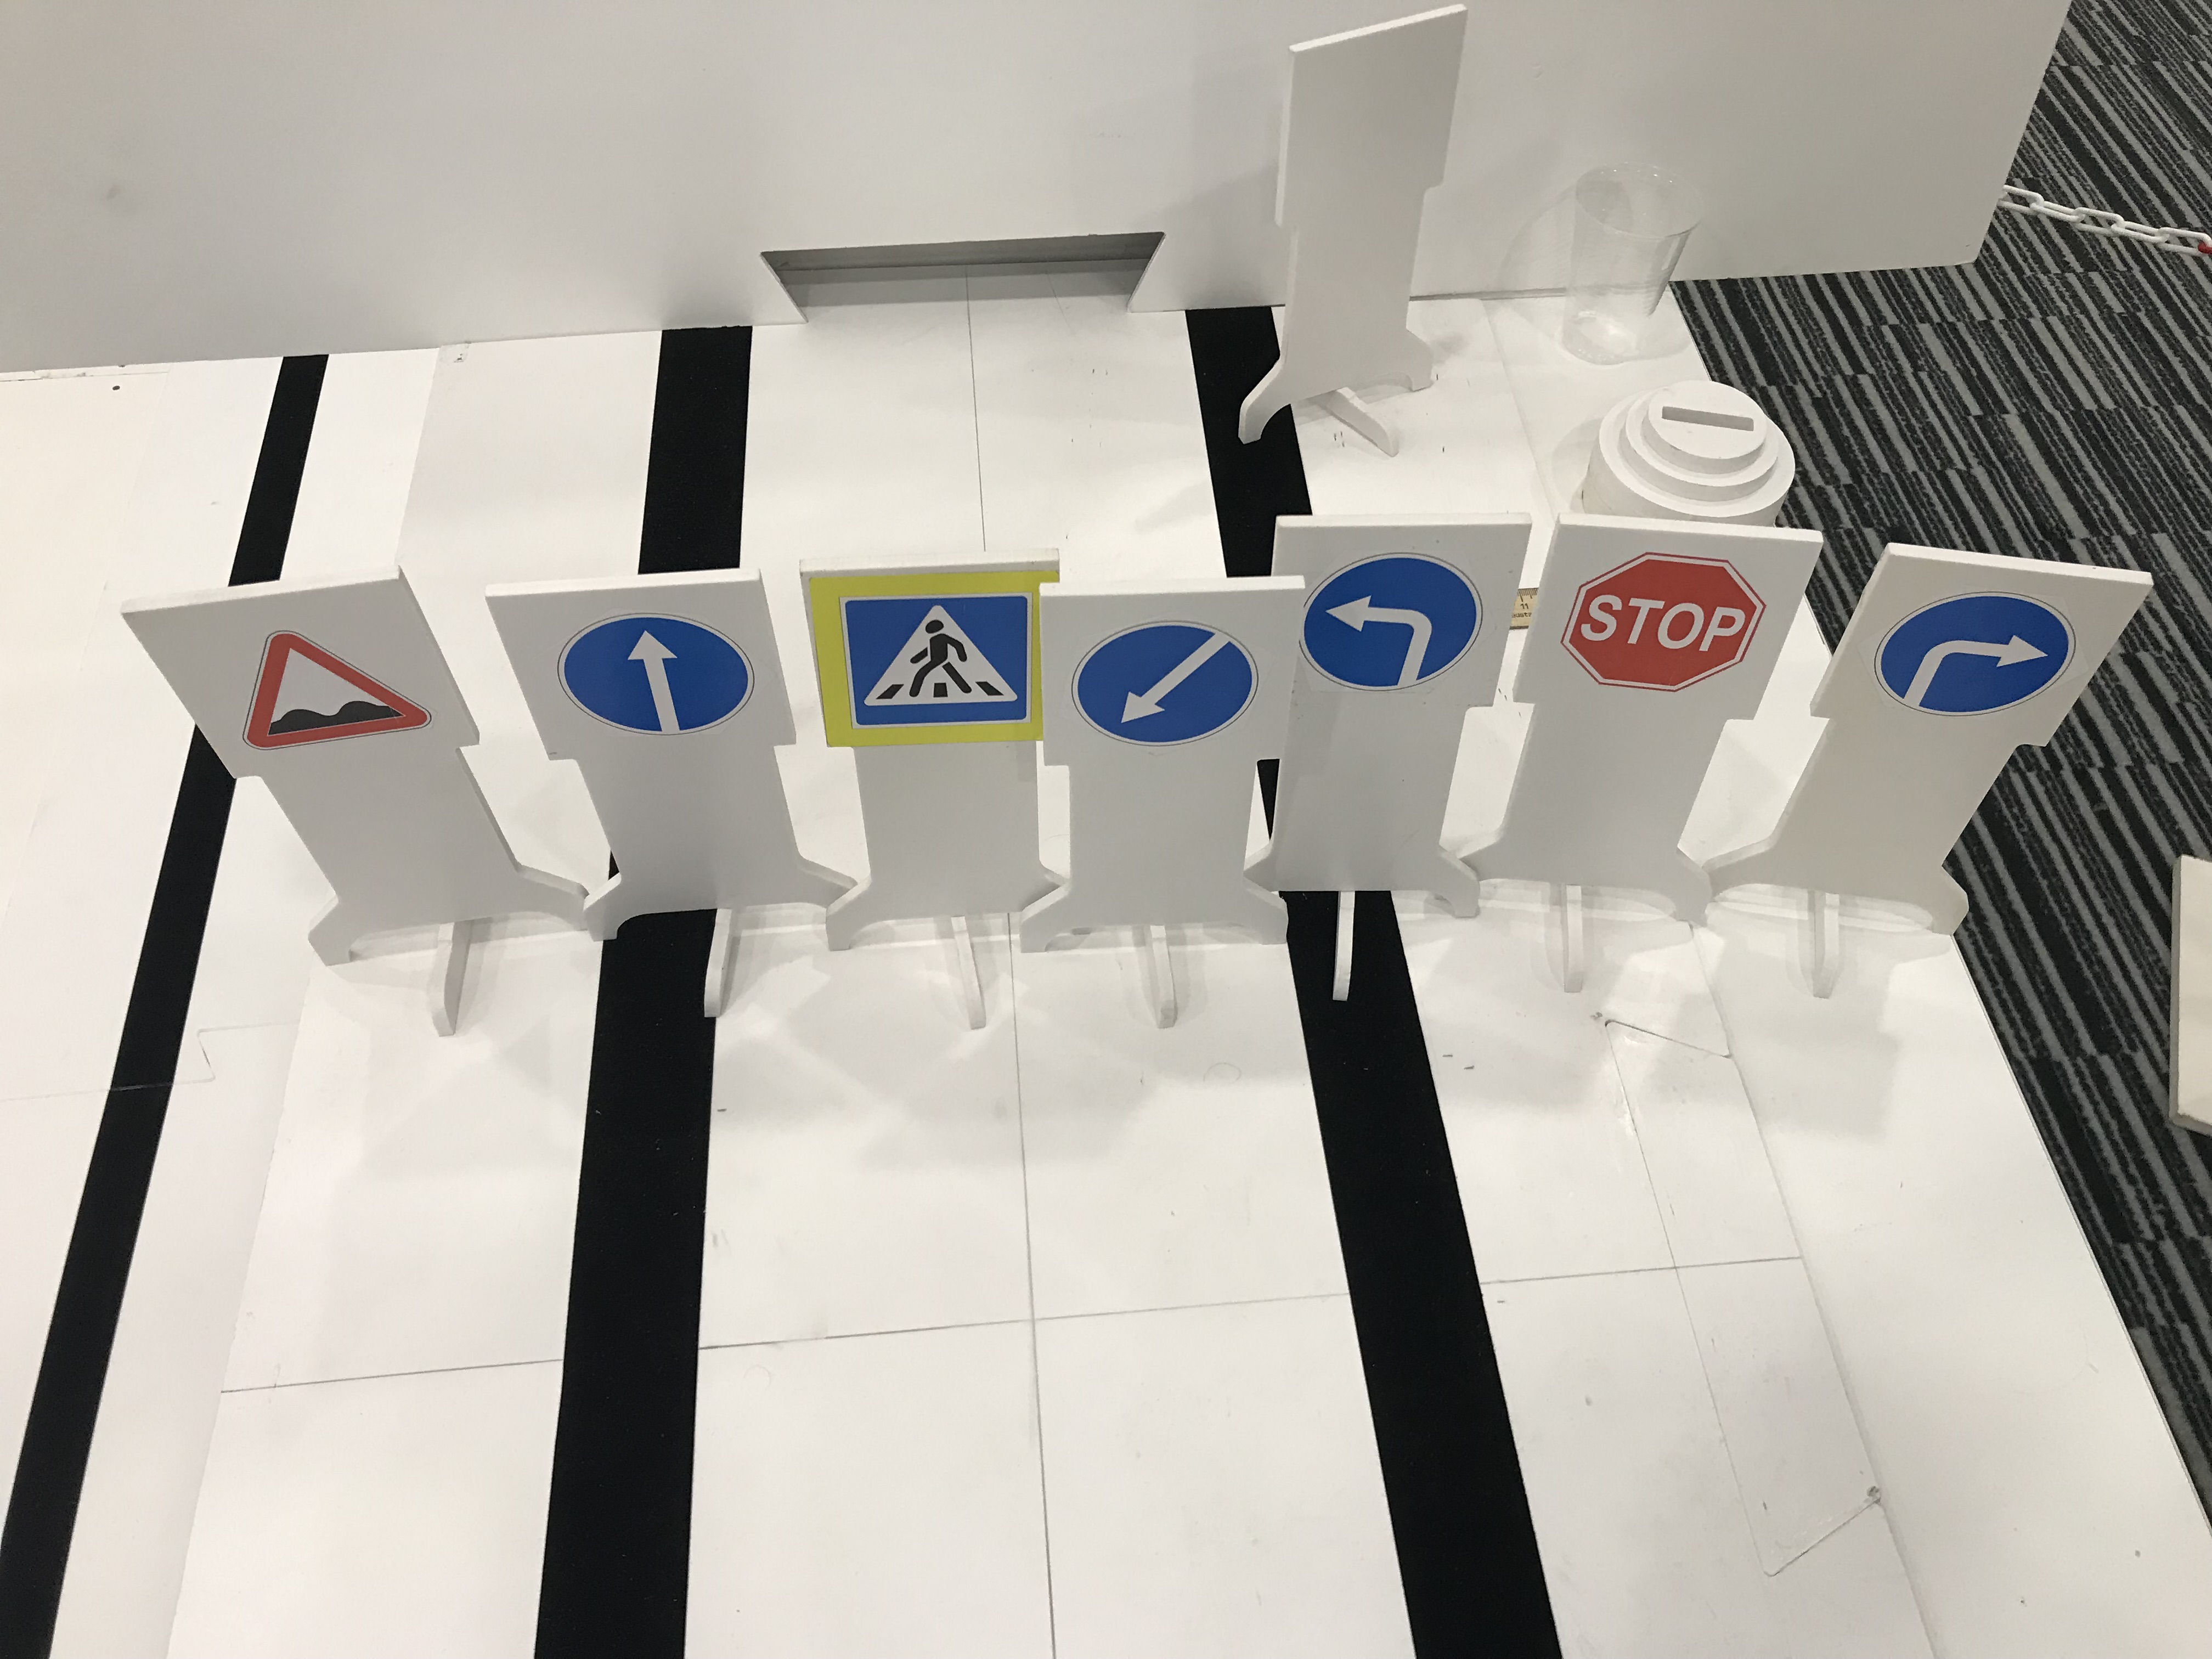Left: (1306, 551, 1484, 695)
Nerov: (237, 633, 430, 767)
Right: (1874, 592, 2067, 714)
Stop: (1566, 552, 1763, 697)
forw: (556, 613, 752, 748)
pesh: (822, 572, 1038, 746)
prep: (1071, 619, 1251, 737)
